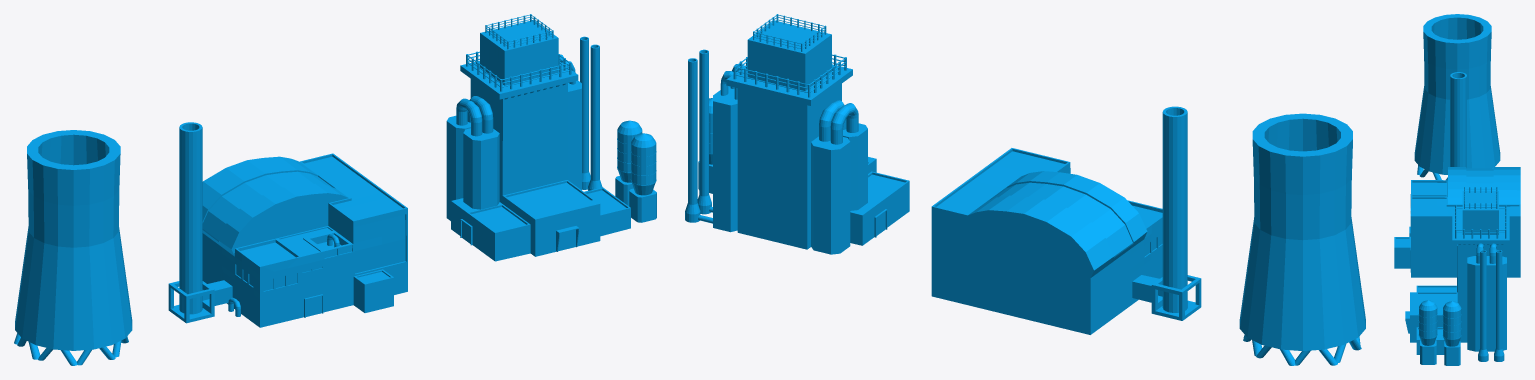
Rendered from buid_low.fbx.
The picture shows the model from 3 angles, left to right: view 1: azimuth 30°, elevation 25°; view 2: azimuth 150°, elevation 25°; view 3: azimuth 270°, elevation 25°; orthographic projection. The views are drawn at different scales.
Parts seen in each view (by area): view 1: 1_l, 3_l, 2_l; view 2: 3_l, 1_l, 2_l; view 3: 1_l, 2_l, 3_l.
Part boxes in pixels (x1,y1,x2,y2): 1_l: (446, 14, 656, 261); 3_l: (168, 122, 407, 327); 2_l: (14, 130, 132, 365); 3_l: (931, 106, 1201, 334); 1_l: (685, 14, 909, 254); 2_l: (1239, 113, 1365, 365); 1_l: (1405, 187, 1509, 365); 2_l: (1414, 14, 1500, 180); 3_l: (1394, 72, 1520, 277).
Bounding box in the file's own units: 2007 × 603 × 487.
